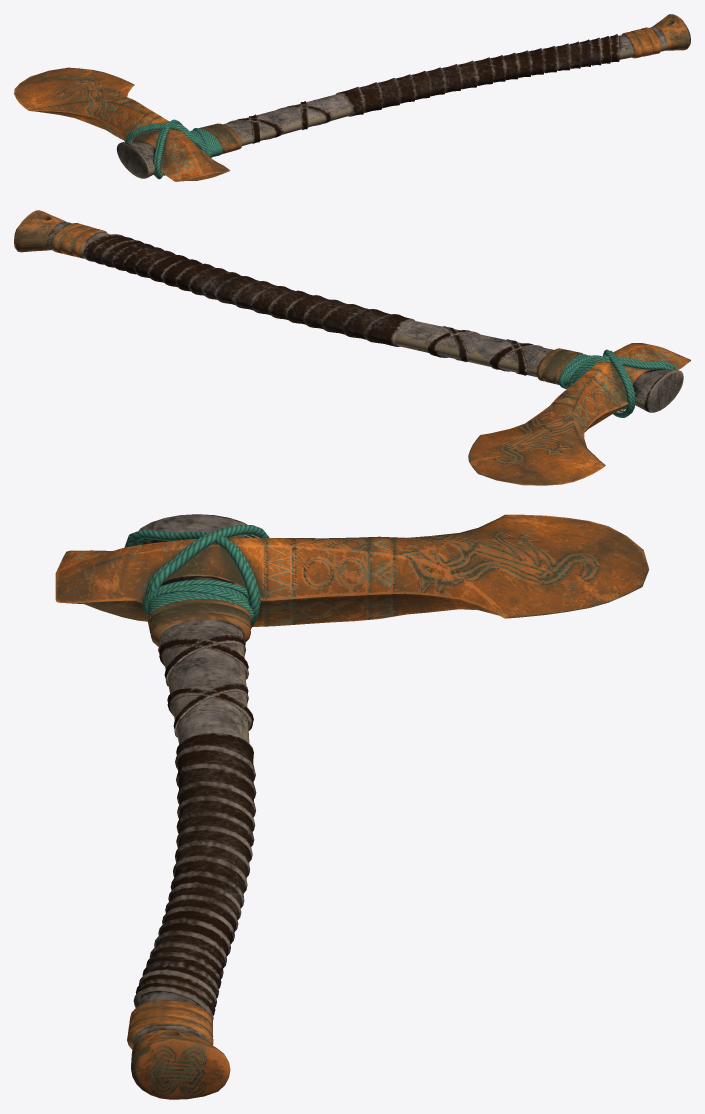
File: statuette_axe.glb
3 renders of one model, top to bottom at view 1: azimuth 30°, elevation 25°; view 2: azimuth 150°, elevation 25°; view 3: azimuth 270°, elevation 25°, orthographic. The views are drawn at different scales.
Parts seen in each view (by area): view 1: AxeLP__0; view 2: AxeLP__0; view 3: AxeLP__0.
Boxes of the visible parts, x1,y1,x2,y2 form: AxeLP__0: (14,14,690,181); AxeLP__0: (14,210,690,485); AxeLP__0: (55,514,649,1099).
Bounding box in the file's own units: 41.86 × 3.48 × 18.83.
Materials: 1 (1 with a texture image).
